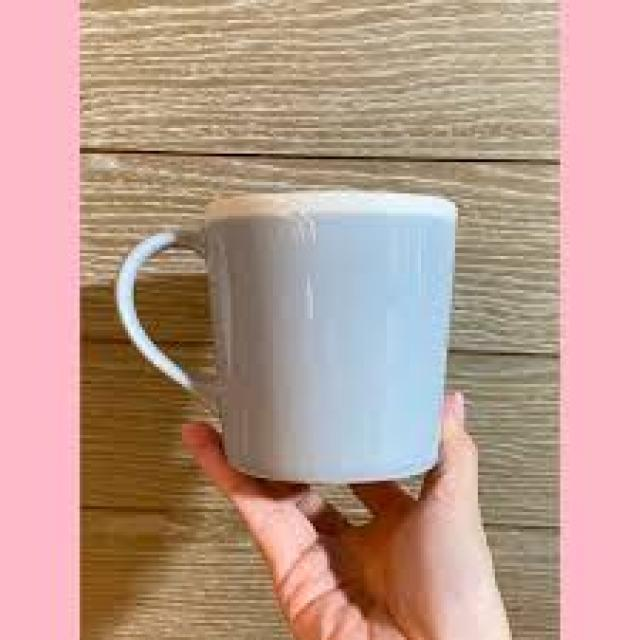taza: (115, 190, 458, 483)
